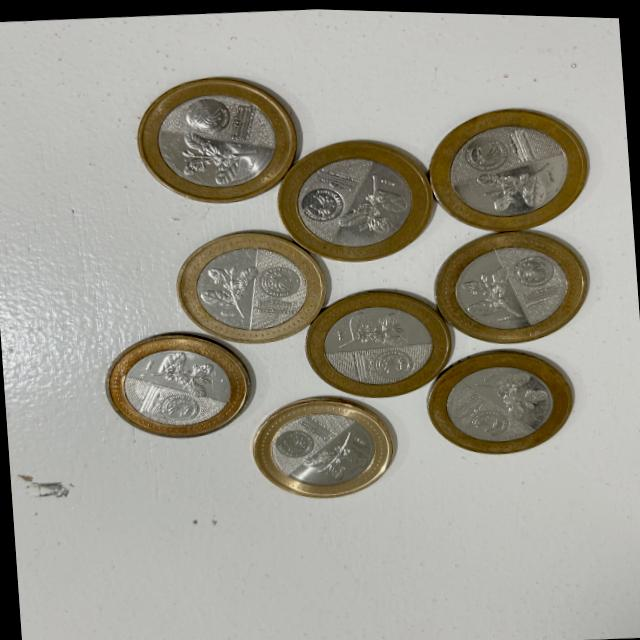20_New_Back: (468, 147, 566, 218), (318, 294, 421, 361), (189, 248, 264, 327)
